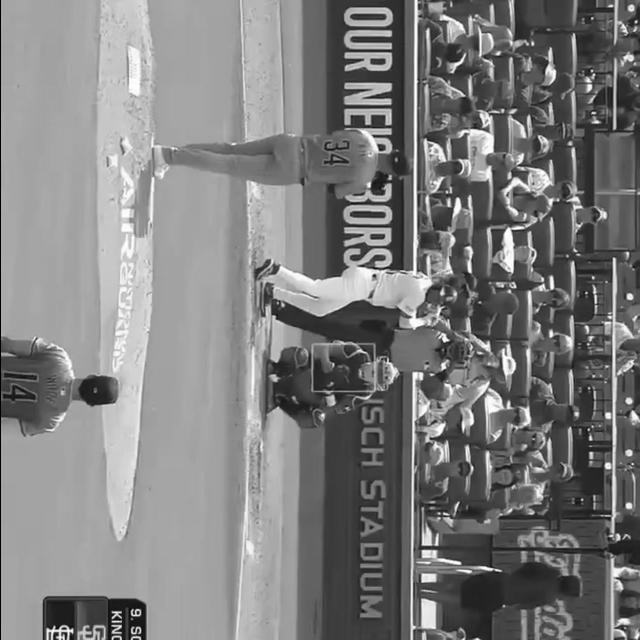base: (249, 339, 259, 402)
baseball_glove: (317, 366, 349, 394), (366, 170, 388, 196)
bat: (439, 239, 446, 287)
shoe: (148, 143, 170, 178)
